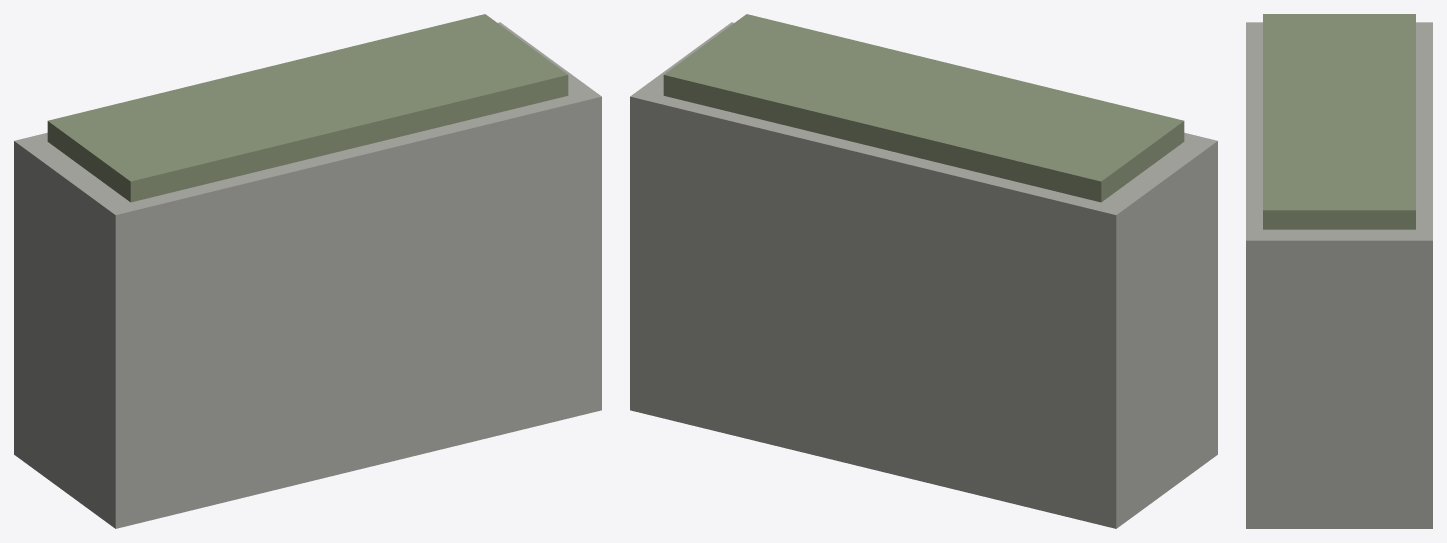
The model's file is iz2_district_laundry_line.glb.
3 views of the same model, side by side, from view 1: azimuth 30°, elevation 25°; view 2: azimuth 150°, elevation 25°; view 3: azimuth 270°, elevation 25° (orthographic). The views are drawn at different scales.
Parts seen in each view (by area): view 1: body; view 2: body; view 3: body.
Boxes of the visible parts, x1,y1,x2,y2 form: body: [14, 14, 601, 528]; body: [630, 14, 1217, 528]; body: [1246, 14, 1432, 528].
Bounding box in the file's own units: 1.47 × 0.9648 × 0.5307.
